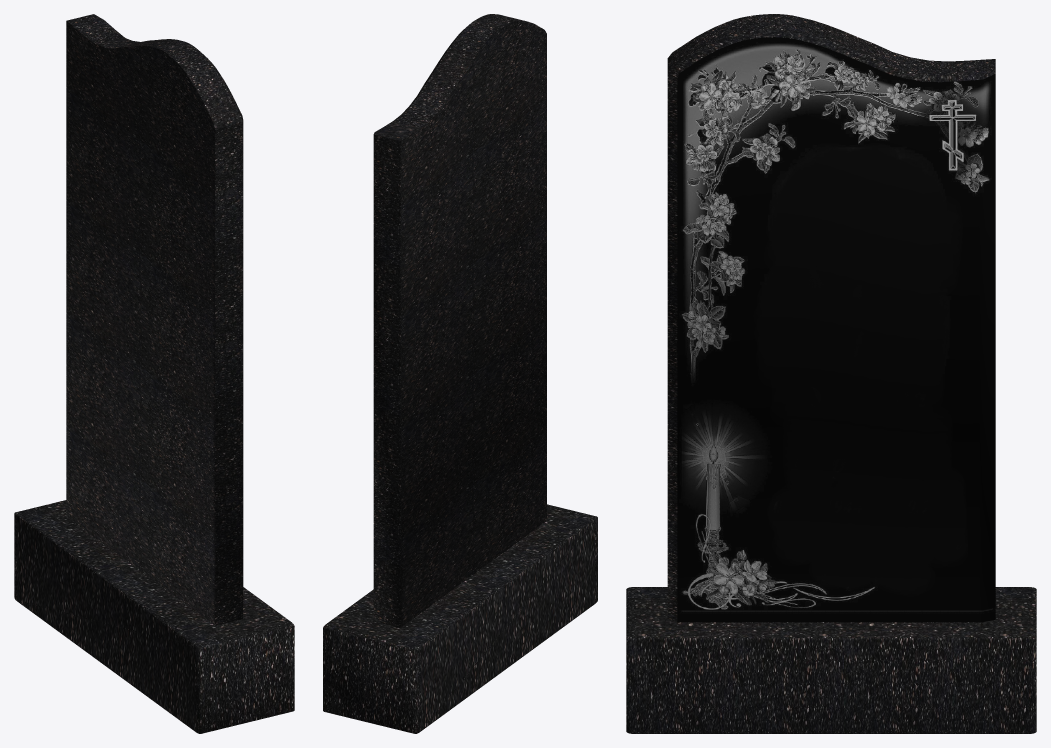
Rendered from Памятник Фон цветы [granite_1_orthodox] (80).glb.
The picture shows the model from 3 angles, left to right: view 1: azimuth 30°, elevation 25°; view 2: azimuth 150°, elevation 25°; view 3: azimuth 270°, elevation 25°; orthographic projection. The views are drawn at different scales.
Visible parts, largest first — view 1: Куб.109, Куб.004; view 2: Куб.109, Куб.004; view 3: Куб.109, Куб.004.
Part boxes in pixels (x1,y1,x2,y2): Куб.109: [66, 14, 243, 625]; Куб.004: [14, 500, 294, 733]; Куб.109: [373, 14, 546, 627]; Куб.004: [323, 504, 597, 733]; Куб.109: [667, 14, 995, 622]; Куб.004: [626, 587, 1036, 733].
Size of the model in its own units: 0.15 by 0.925 by 0.5.
Materials: 3 (3 with a texture image).
